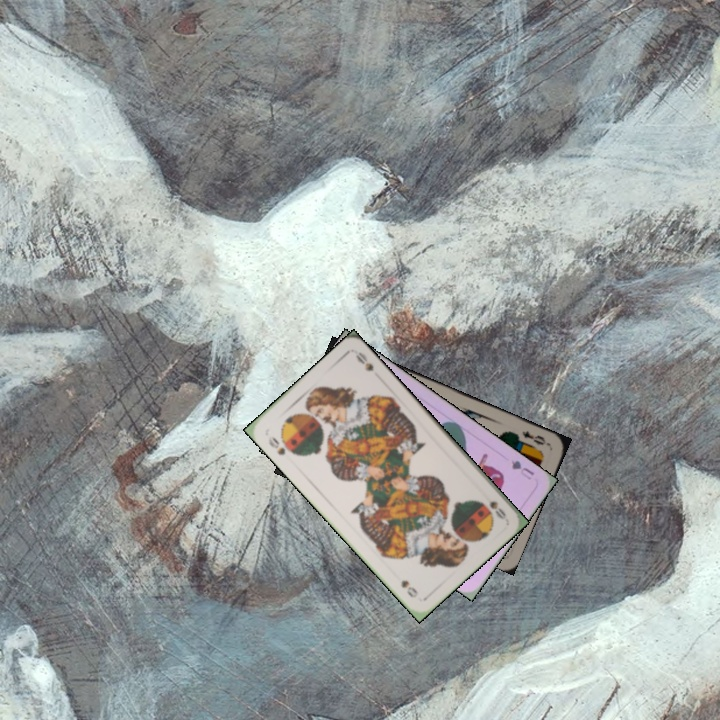EO: (518, 426, 552, 448)
GU: (507, 456, 537, 482)
SO: (264, 432, 297, 458), (485, 497, 509, 522)
